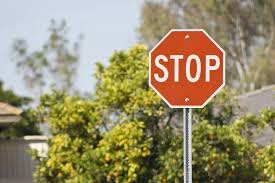stop sign: (148, 29, 225, 108)
